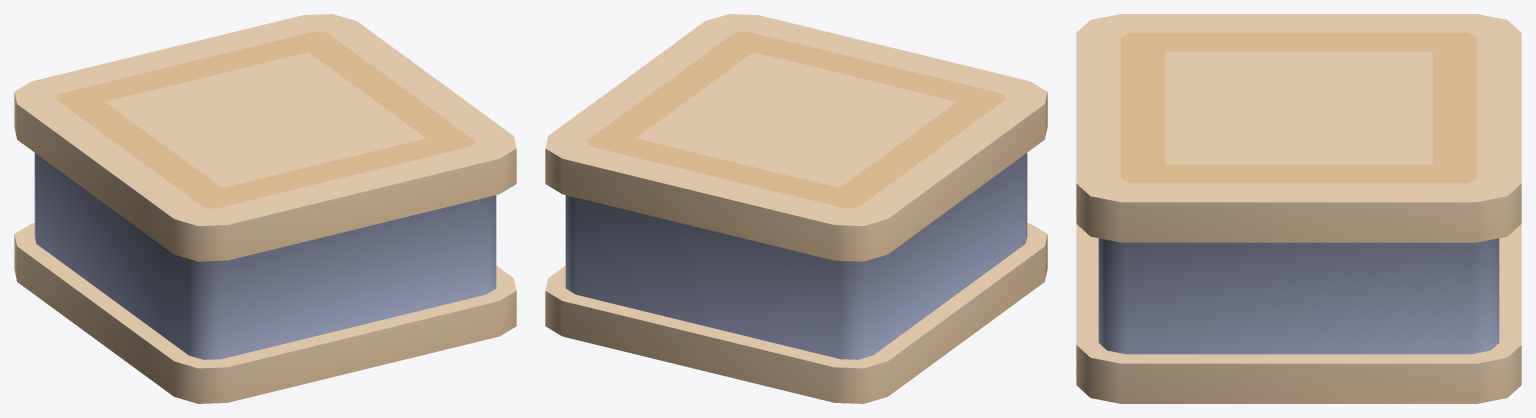
Rendered from block-moving-large.glb.
3 views of the same model, side by side, from view 1: azimuth 30°, elevation 25°; view 2: azimuth 150°, elevation 25°; view 3: azimuth 270°, elevation 25° (orthographic). The views are drawn at different scales.
Visible parts, largest first — view 1: block-moving-large; view 2: block-moving-large; view 3: block-moving-large.
Boxes of the visible parts, <box> form: block-moving-large: <box>14,14,516,403</box>; block-moving-large: <box>545,14,1047,403</box>; block-moving-large: <box>1076,14,1521,403</box>.
Size of the model in its own units: 1 by 0.5 by 1.
